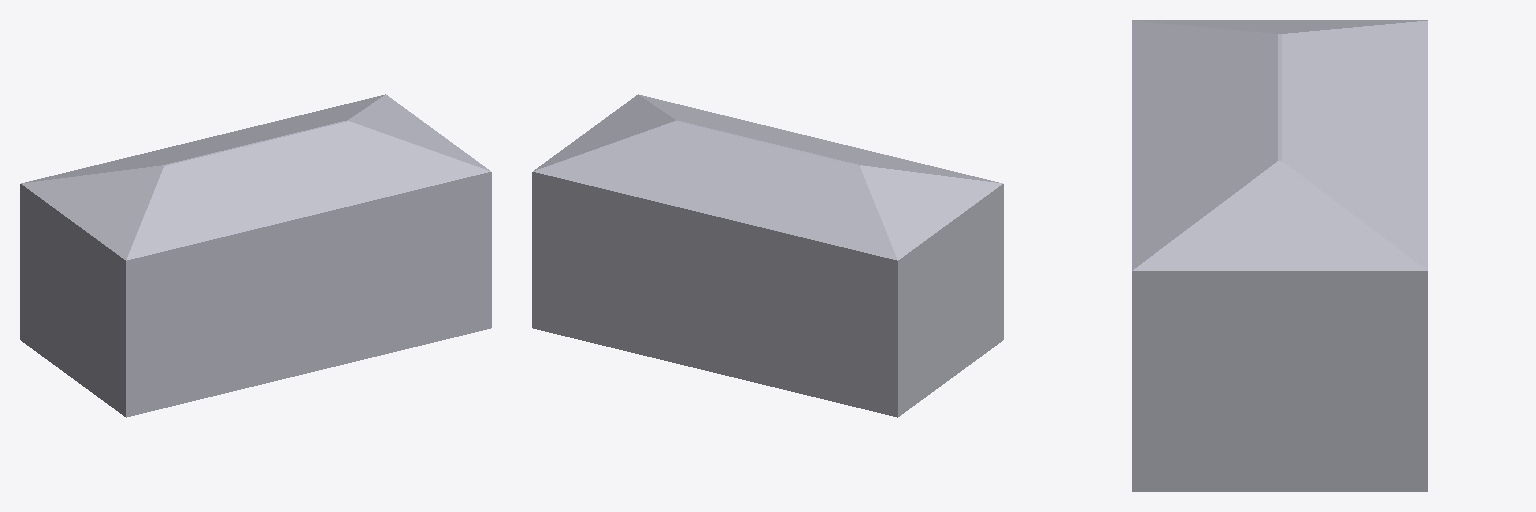
The robot description file, URDF, robot "field_house":
<?xml version="1.0" encoding="utf-8"?>
<!-- This URDF was automatically created by SolidWorks to URDF Exporter! Originally created by [author] ([email redacted])
     Commit Version: 1.5.1-0-g916b5db  Build Version: 1.5.7152.31018
     For more information, please see http://wiki.ros.org/sw_urdf_exporter -->
<robot
  name="field_house">
  <link
    name="field_house">
    <inertial>
      <origin
        xyz="-5 -5 0"
        rpy="0 0 0" />
      <mass
        value="48478" />
      <inertia
        ixx="69284"
        ixy="-2.1115E-11"
        ixz="3.62109999999999E-13"
        iyy="164600"
        iyz="4.52550880890941E-12"
        izz="182570" />
    </inertial>
    <visual>
      <origin
        xyz="-5 -5 0"
        rpy="1.5707963267949 0 0" />
      <geometry>
        <mesh
          filename="package://field_house/meshes/field_house.STL" />
      </geometry>
      <material
        name="">
        <color
          rgba="0.77647 0.77647 0.81961 1" />
        <texture
          filename="package://field_house/textures/" />
      </material>
    </visual>
    <collision>
      <origin
        xyz="-5 -5 0"
        rpy="1.5707963267949 0 0" />
      <geometry>
        <mesh
          filename="package://field_house/meshes/field_house.STL" />
      </geometry>
    </collision>
  </link>
</robot>

--- Render facts (derived) ---
Views: 3 orthographic renders of the robot side by side, from view 1: azimuth 30°, elevation 25°; view 2: azimuth 150°, elevation 25°; view 3: azimuth 270°, elevation 25°.
Robot: field_house — 1 links, 0 joints (none); root link field_house; default pose: every joint at zero.
Visible links, largest first — view 1: field_house; view 2: field_house; view 3: field_house.
Boxes of the visible links, <box> form: field_house: <box>20,94,491,417</box>; field_house: <box>532,94,1003,417</box>; field_house: <box>1132,20,1427,491</box>.
Bounding box of the posed robot: 5 × 2.5 × 2.5 m (x, y, z).
1 mesh visuals loaded from 1 distinct referenced files (1 binary STL).